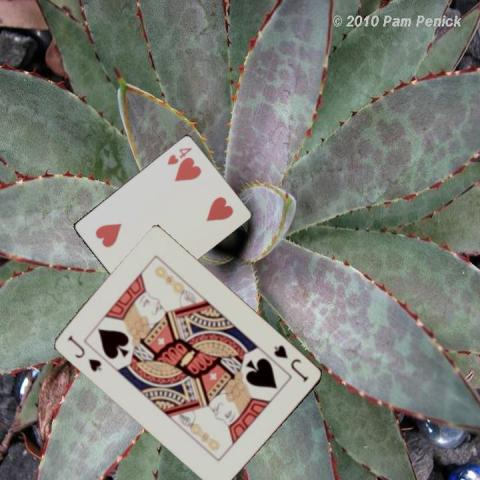4h: (164, 144, 193, 166)
Js: (271, 342, 311, 384), (64, 332, 104, 373)
